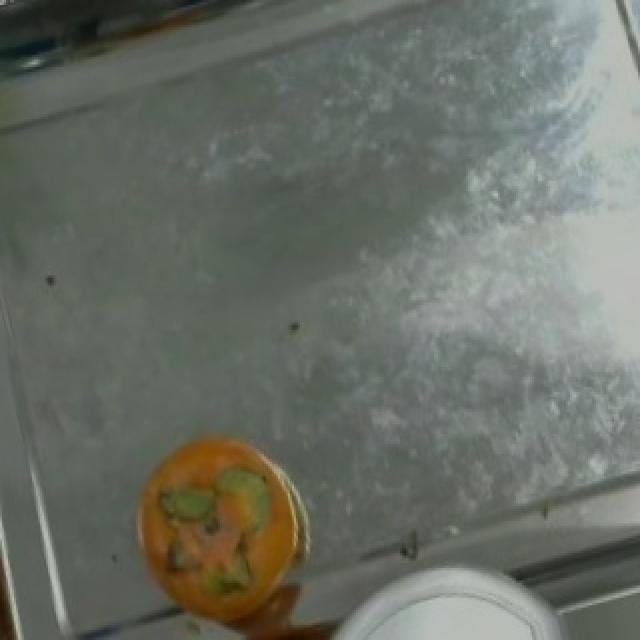Fruit: (118, 412, 322, 640), (352, 583, 562, 640)
